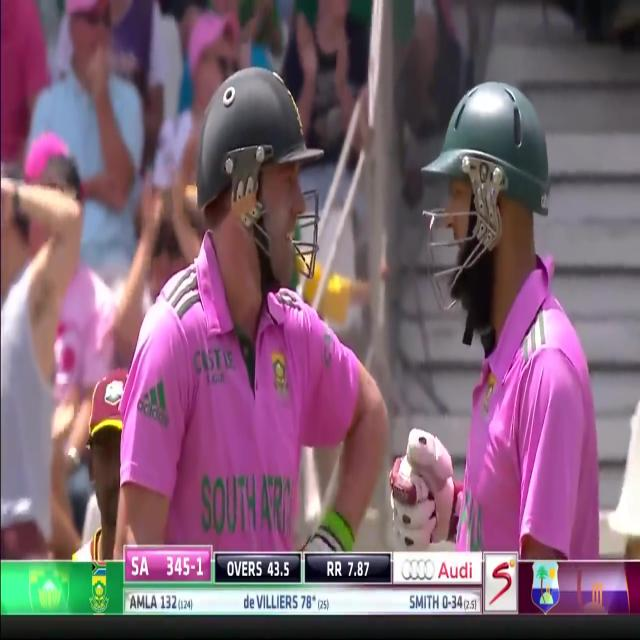Ball: (122, 69, 389, 558), (430, 74, 607, 557)
